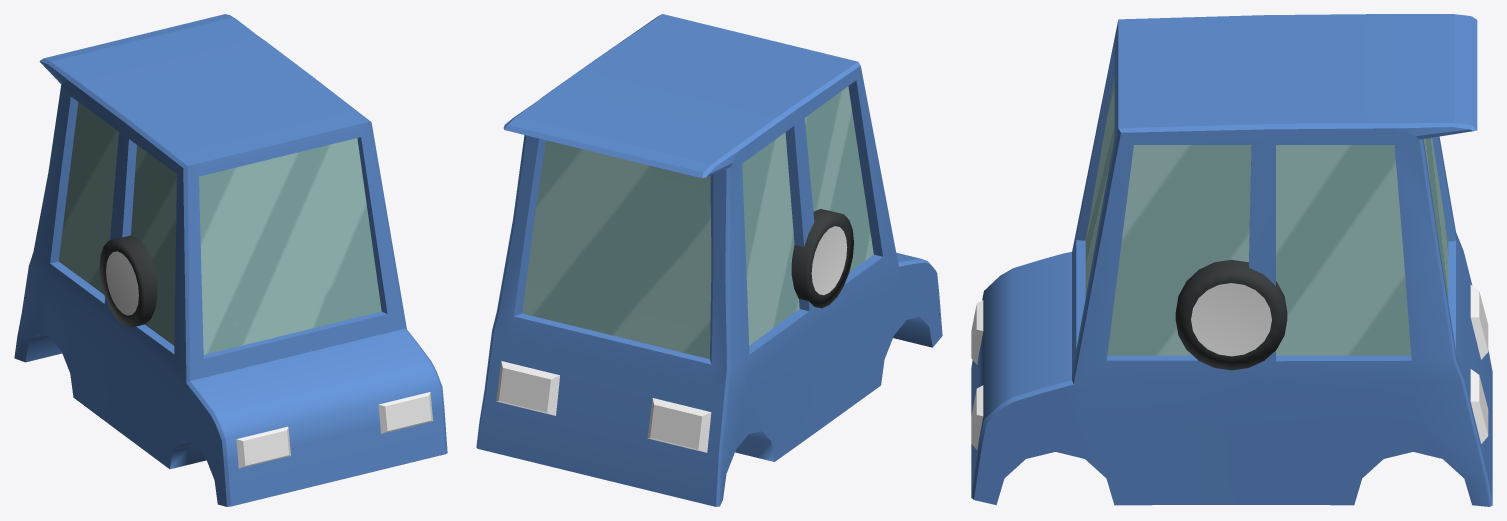
The model's file is car_6_B.fbx.
The picture shows the model from 3 angles, left to right: view 1: azimuth 30°, elevation 25°; view 2: azimuth 150°, elevation 25°; view 3: azimuth 270°, elevation 25°; orthographic projection. The views are drawn at different scales.
Visible parts, largest first — view 1: car_6_chasis_B, car_6_right_wheel_B, car_6_back_wheel_B; view 2: car_6_chasis_B, car_6_right_wheel_B; view 3: car_6_chasis_B, car_6_back_wheel_B, car_6_left_wheel_B.
Part boxes in pixels (x1,y1,x2,y2): car_6_chasis_B: [14, 14, 447, 506]; car_6_right_wheel_B: [99, 235, 157, 327]; car_6_back_wheel_B: [113, 239, 157, 326]; car_6_chasis_B: [476, 14, 942, 506]; car_6_right_wheel_B: [791, 209, 853, 308]; car_6_chasis_B: [971, 14, 1492, 506]; car_6_back_wheel_B: [1175, 261, 1287, 370]; car_6_left_wheel_B: [1175, 259, 1287, 315].
Size of the model in its own units: 98.97 by 126 by 161.
